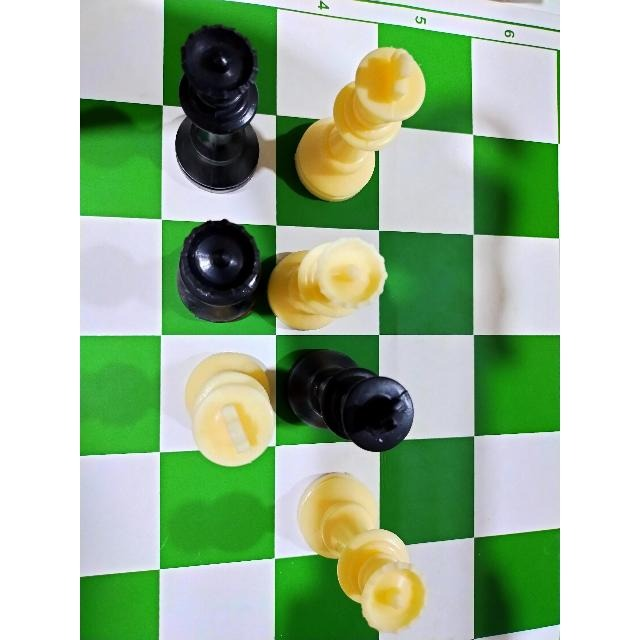black-king: (281, 345, 425, 455)
black-queen: (176, 23, 262, 190), (172, 213, 261, 326)
white-king: (292, 46, 429, 207), (179, 349, 278, 474)
white-queen: (297, 468, 427, 635), (268, 224, 390, 329)
